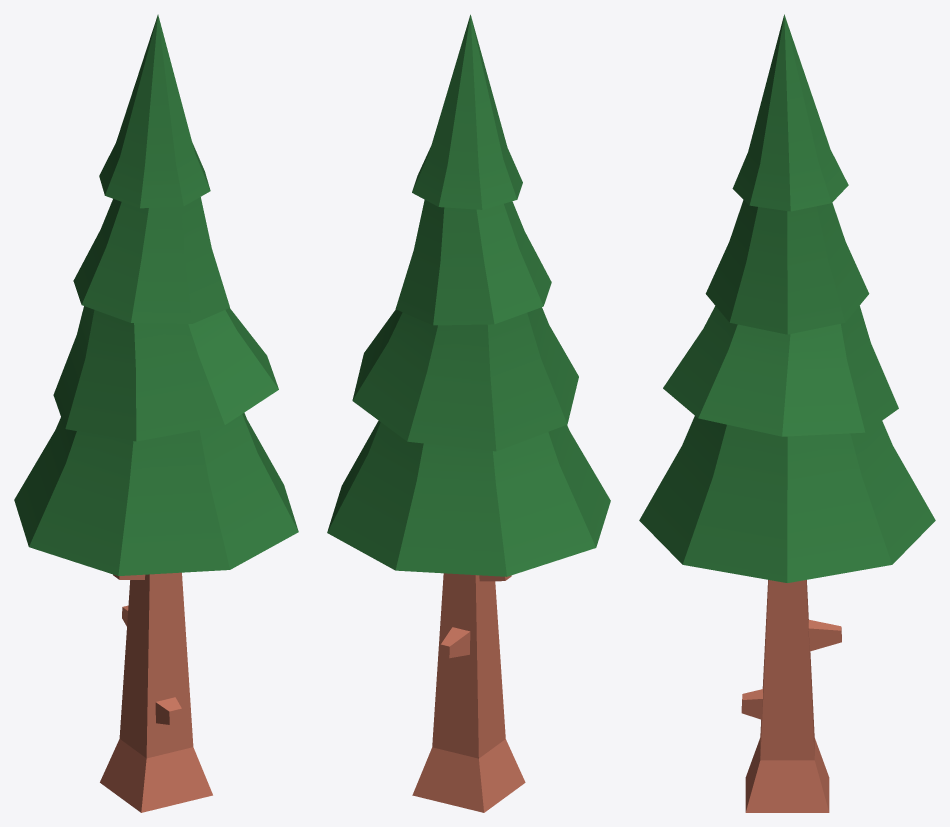
Rendered from tree_pineDefaultB.glb.
The picture shows the model from 3 angles, left to right: view 1: azimuth 30°, elevation 25°; view 2: azimuth 150°, elevation 25°; view 3: azimuth 270°, elevation 25°; orthographic projection.
Visible parts, largest first — view 1: tree_pineDefaultB; view 2: tree_pineDefaultB; view 3: tree_pineDefaultB.
Boxes of the visible parts, bbox=[...] form: tree_pineDefaultB: bbox=[14, 14, 298, 812]; tree_pineDefaultB: bbox=[327, 14, 610, 812]; tree_pineDefaultB: bbox=[639, 14, 935, 812].
Size of the model in its own units: 0.532 by 1.55 by 0.532.
